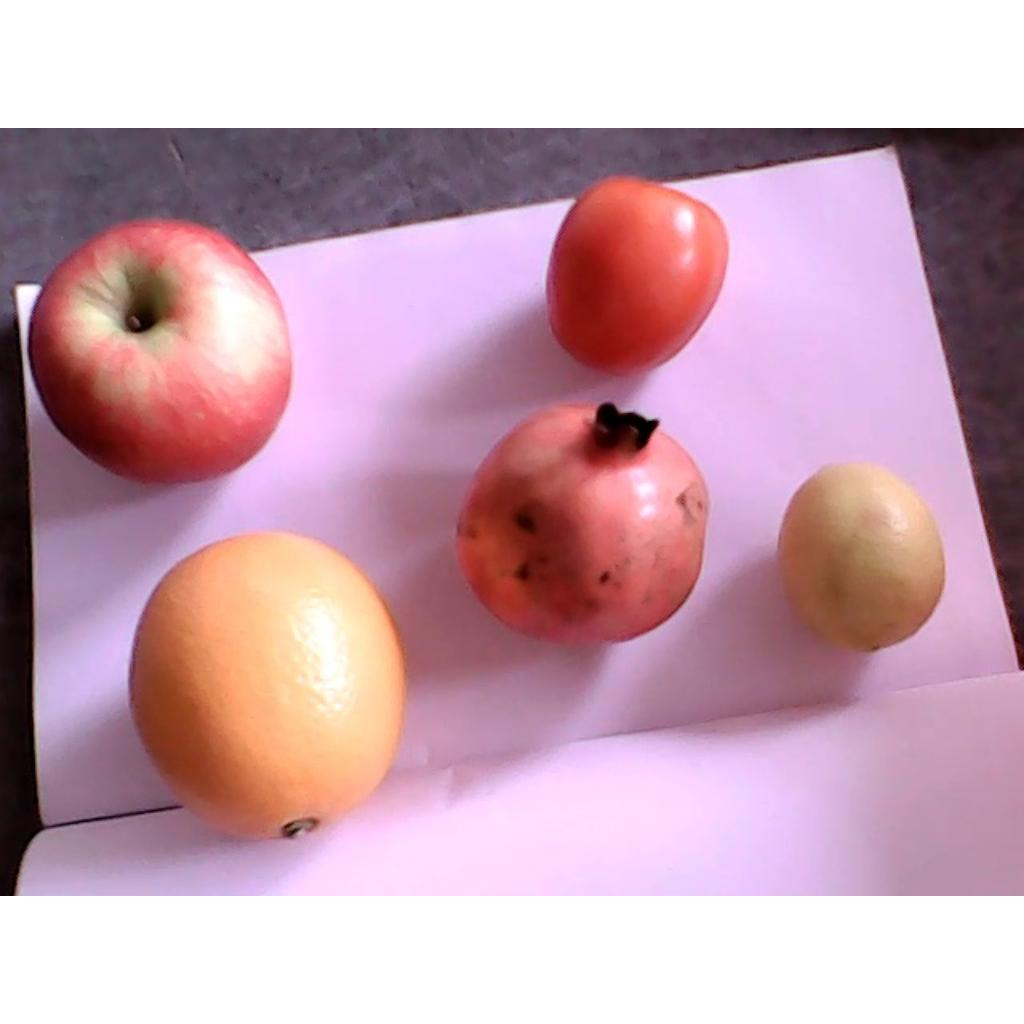apple: (27, 218, 292, 481)
lemon: (777, 462, 944, 653)
orange: (128, 529, 407, 841)
pomegranate: (453, 400, 711, 643)
tomato: (546, 176, 730, 377)
